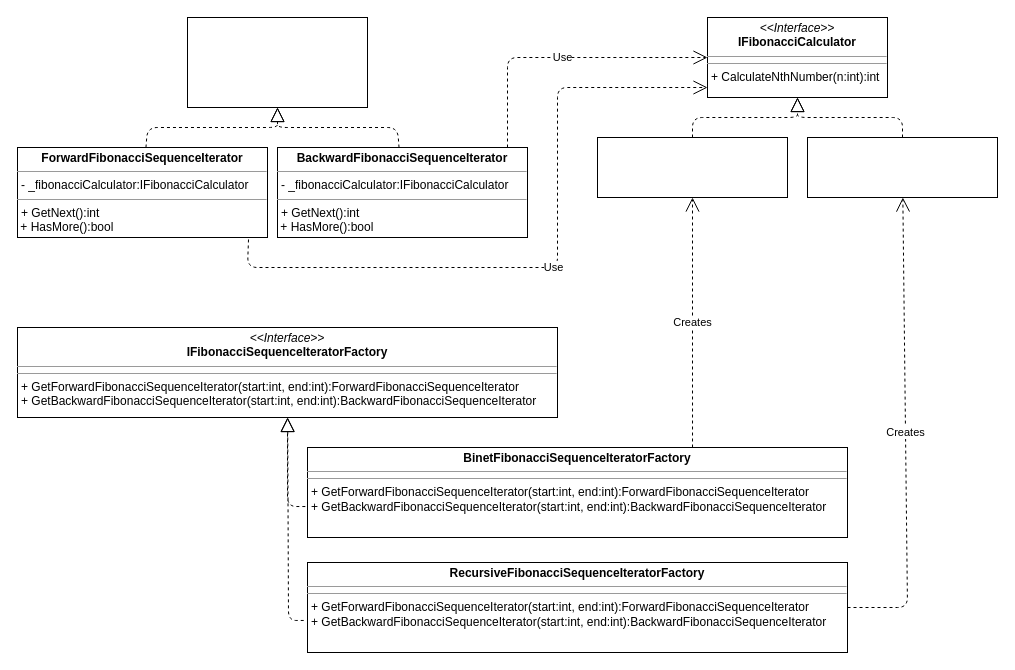
This 1015x670 diagram has some shape labels left out. The centre of each missing label's shape, as x and y in pixels:
<<Interface>> IFibonacciSequenceIterator + GetNext():int + HasMore():bool: [277,62]
BinetFibonacciCalculator + CalculateNthNumber(n:int):int: [692,167]
RecursiveFibonacciCalculator + CalculateNthNumber(n:int):int: [902,167]
